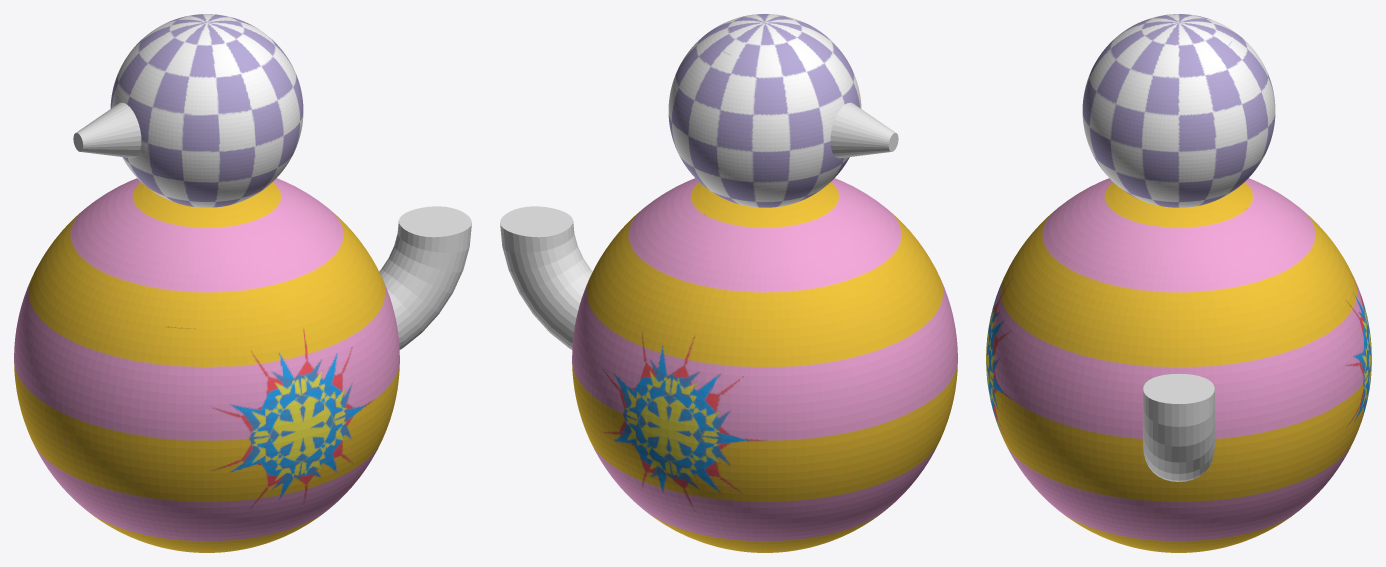
Rendered from BOD0_BMC17_BCC6_BPT1_FRC16_HEA0_HMC16_HCC2_HPT4_ELT2_ERT0_ELL2_ERL2_AP2_AAL1_AAR1_BEK0.fbx.
The picture shows the model from 3 angles, left to right: view 1: azimuth 30°, elevation 25°; view 2: azimuth 150°, elevation 25°; view 3: azimuth 270°, elevation 25°; orthographic projection.
Parts seen in each view (by area): view 1: Body, Arm, Ear; view 2: Body, Arm, Ear; view 3: Body, Arm.
Part boxes in pixels (x1,y1,x2,y2): Body: (14, 14, 399, 552); Arm: (379, 206, 471, 349); Ear: (73, 102, 141, 158); Body: (572, 14, 957, 552); Arm: (500, 206, 592, 349); Ear: (830, 102, 898, 158); Body: (986, 14, 1371, 552); Arm: (1143, 373, 1214, 481).
Bounding box in the file's own units: 62.99 × 72.41 × 49.36.
1 material, 1 textured.
